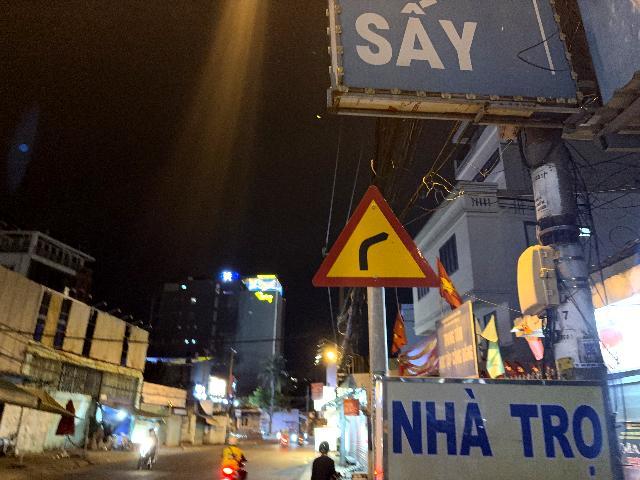cho-ngoat-nguy-hiem-ben-phai: (313, 184, 444, 287)
